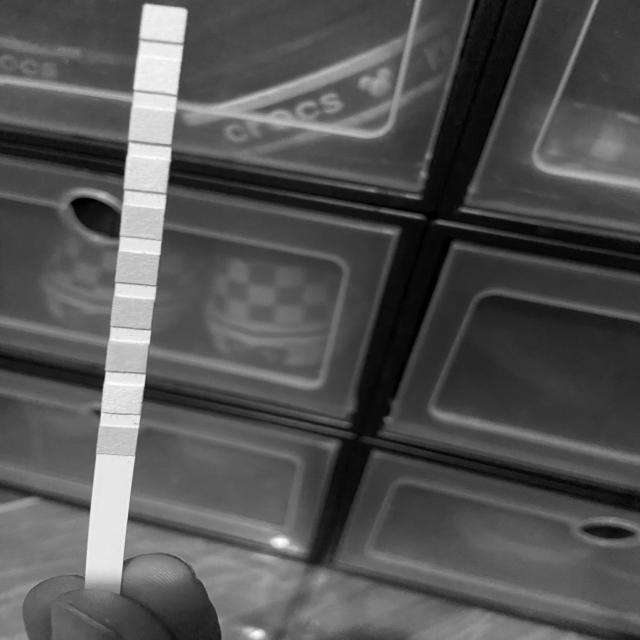Bilirubin: (104, 386, 140, 412)
Blood: (117, 255, 157, 282)
Glucose: (99, 428, 136, 453)
Ketone: (109, 344, 146, 370)
Leukocytes: (142, 9, 184, 38)
Nitrite: (137, 62, 178, 90)
Protein: (126, 162, 167, 188)
SpGravity: (113, 299, 151, 327)
Urobilinogen: (132, 112, 172, 140)
background: (0, 0, 640, 640)
pH: (123, 209, 162, 235)
strip: (85, 4, 188, 582)
